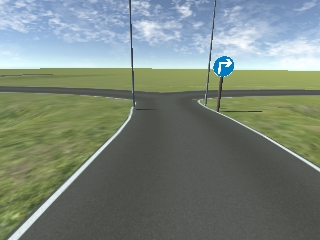right: (212, 56, 234, 77)
